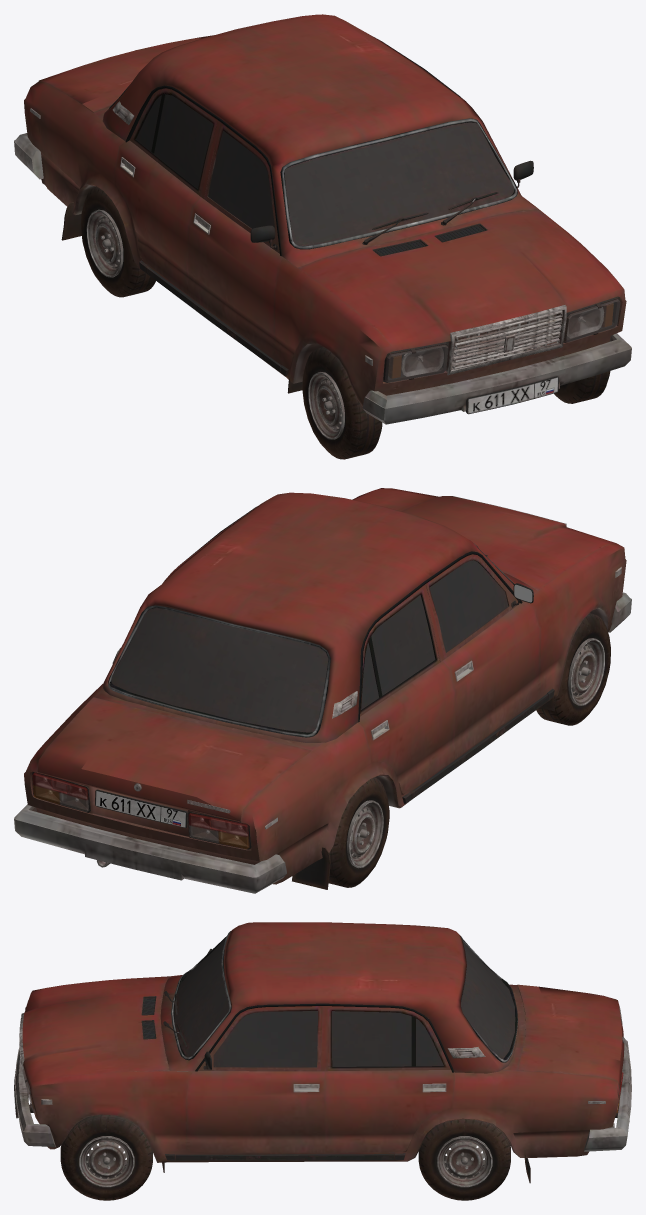
The picture shows the model from 3 angles, top to bottom: view 1: azimuth 30°, elevation 25°; view 2: azimuth 150°, elevation 25°; view 3: azimuth 270°, elevation 25°; orthographic projection. The views are drawn at different scales.
Parts seen in each view (by area): view 1: Car; view 2: Car; view 3: Car.
Part boxes in pixels (bbox=[...]): Car: bbox=[14, 14, 631, 459]; Car: bbox=[14, 488, 631, 893]; Car: bbox=[14, 922, 631, 1200].
Bounding box in the file's own units: 1.76 × 1.47 × 4.13.
Materials: 6 (6 with a texture image).
